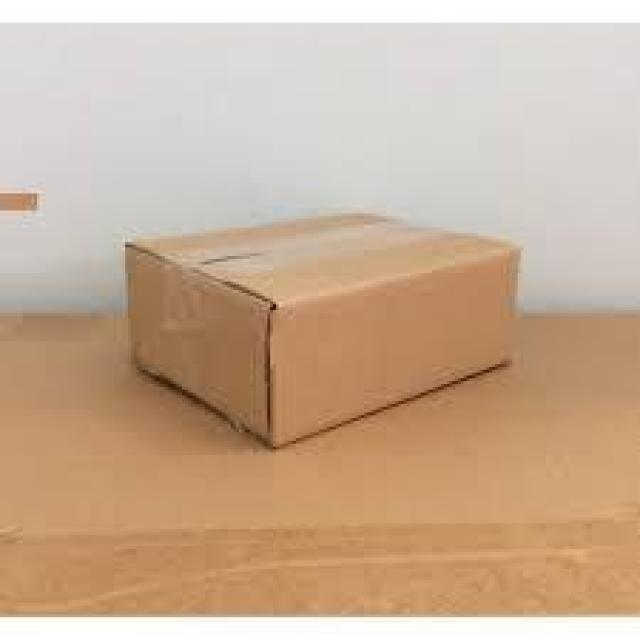box: (129, 208, 523, 456)
